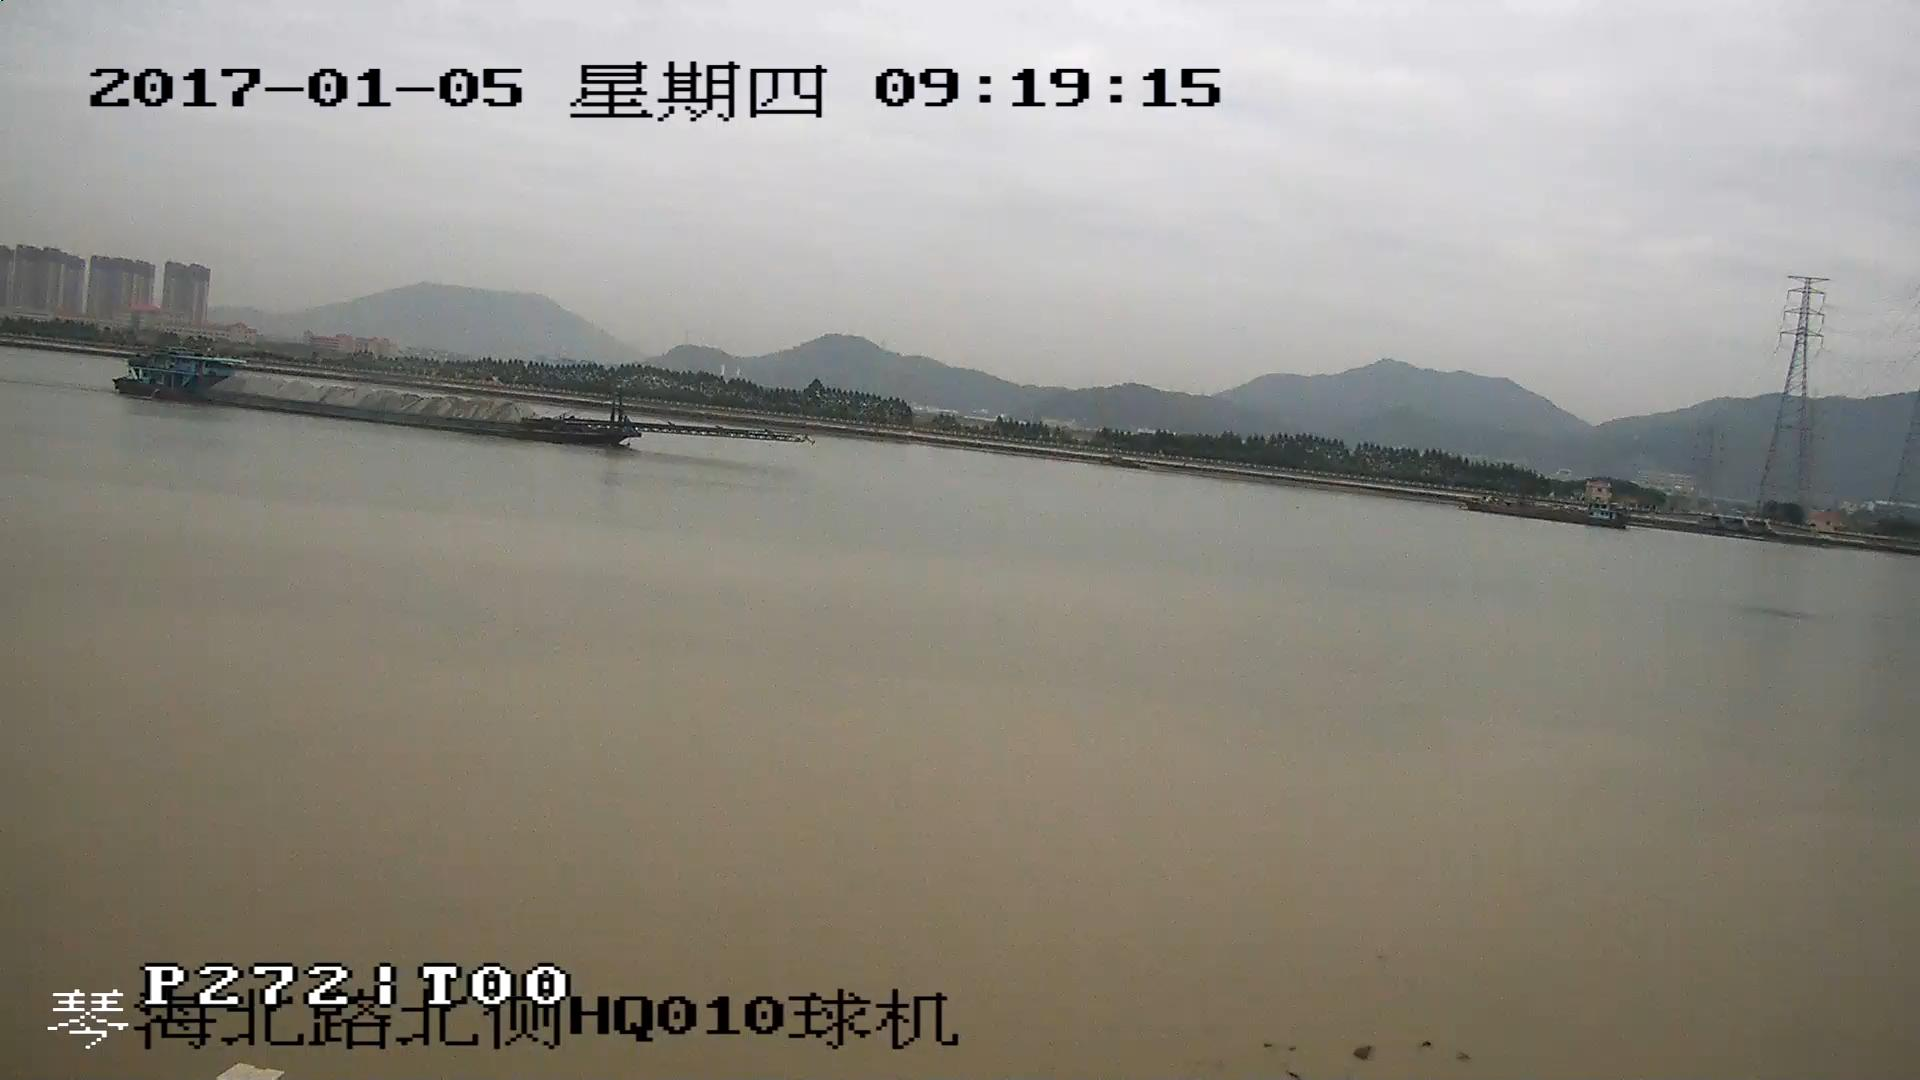ore carrier: (119, 351, 814, 453)
